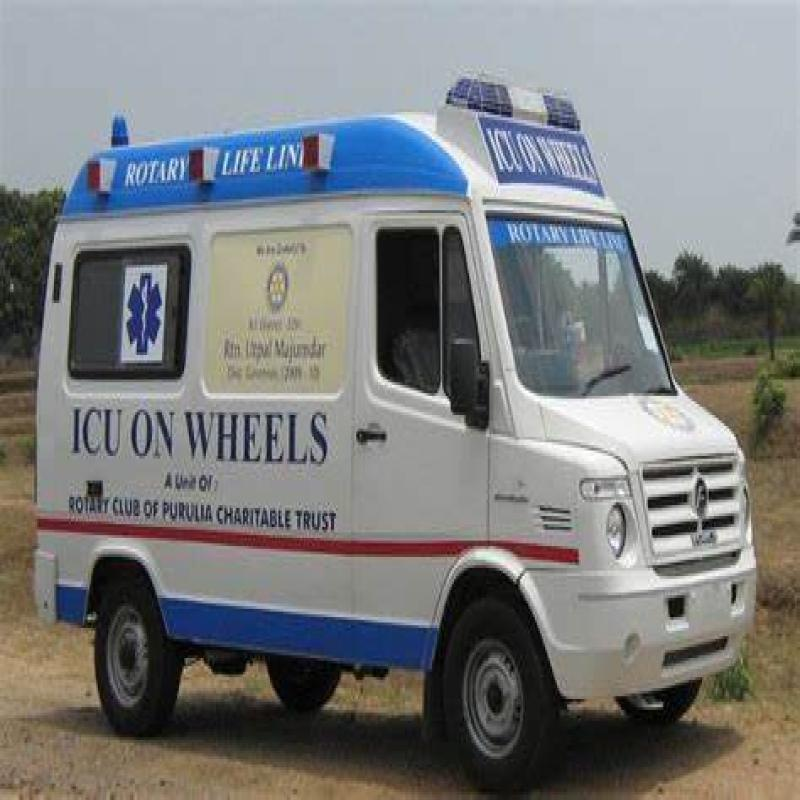AmbulanceSiren: (430, 67, 606, 142)
